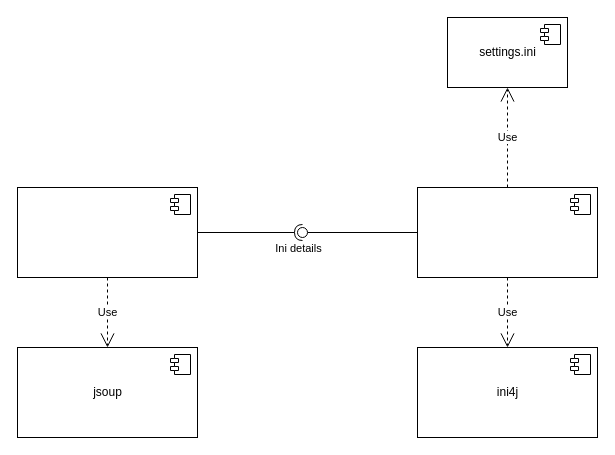
Image size: 615x455. Some labels were removed from this diagram. Here are the shapes that lost their labels. From the top down, the centre of each, then its label:
(x=107, y=232): ImageDonwloader
(x=507, y=232): IniParser
